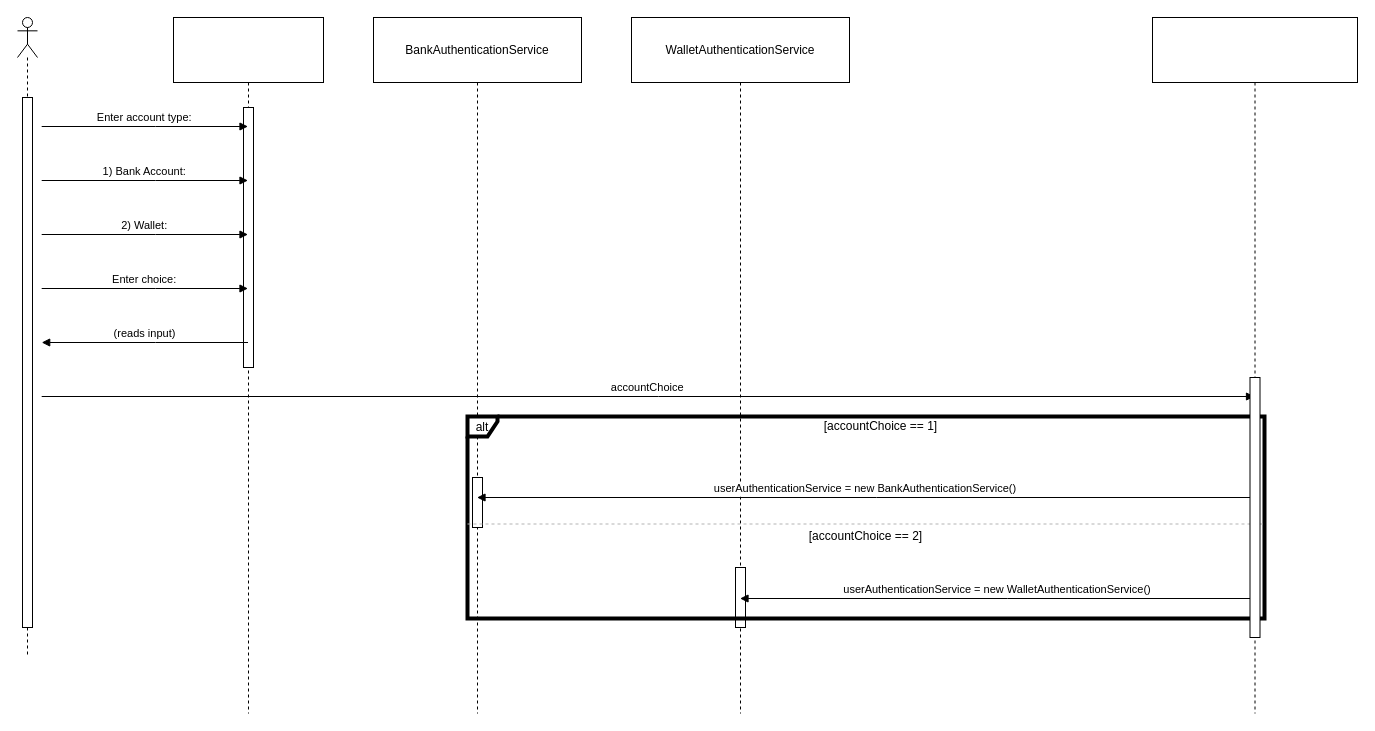
This 1375x731 diagram has some shape labels left out. The centre of each missing label's shape, as x and y in pixels:
"Console" belongs at [248,365].
"UserAuthenticationService" belongs at [1255,365].
